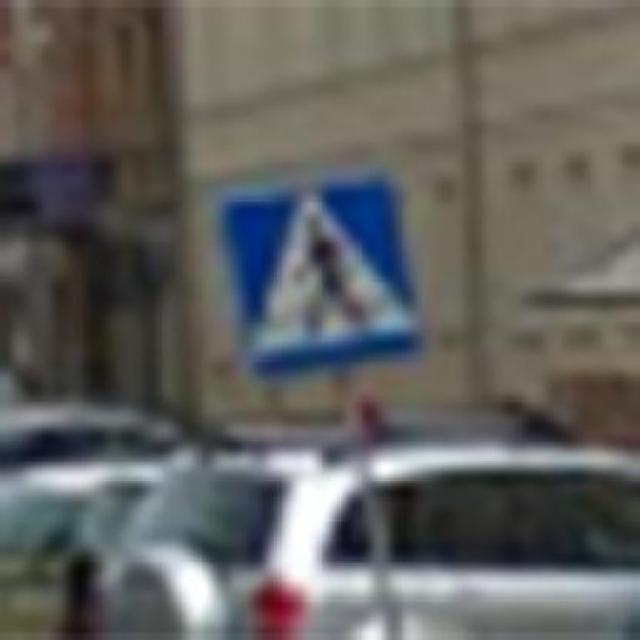Przejscie dla pieszych: (209, 168, 423, 382)
